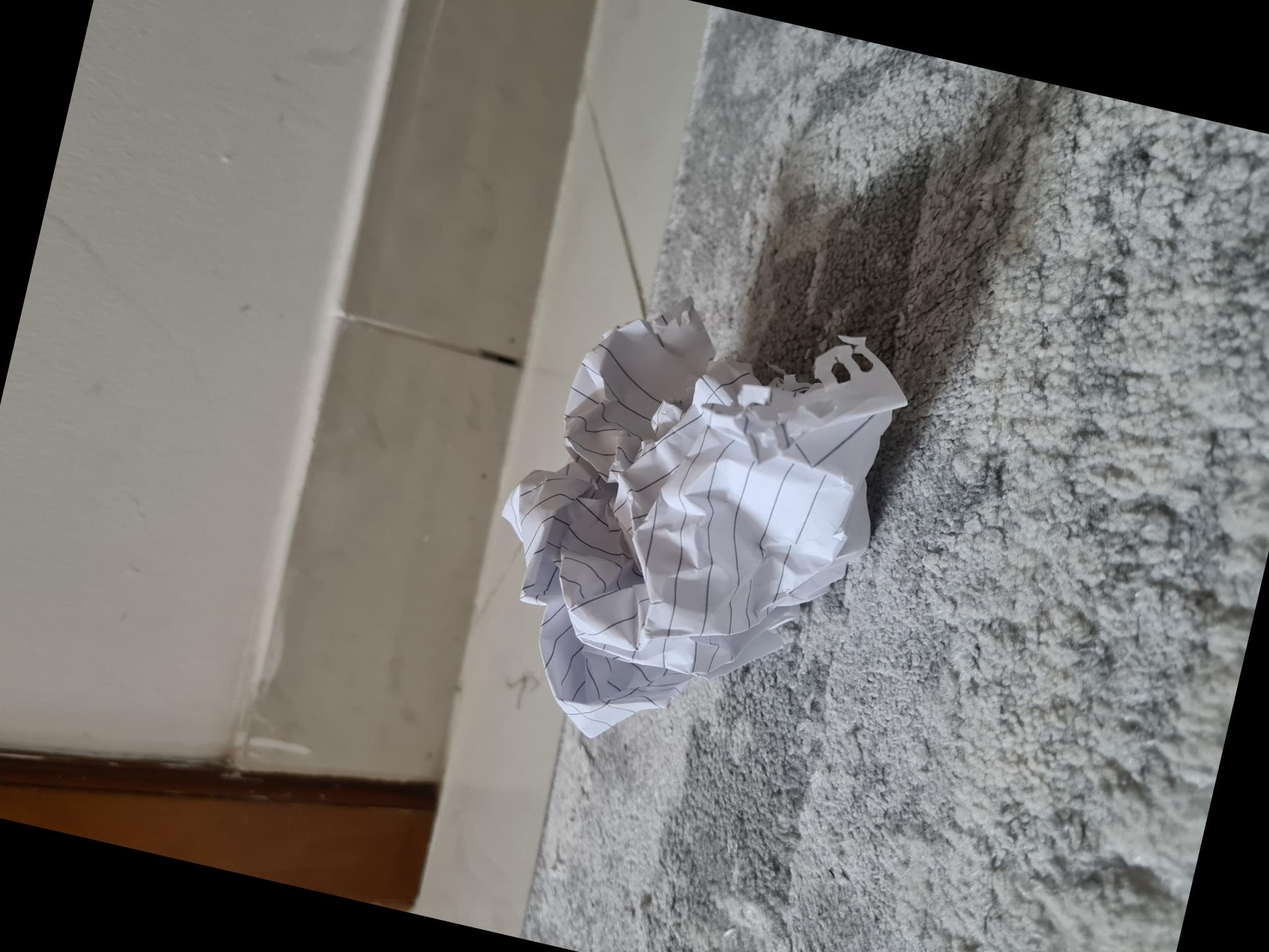Kertas: (191, 463, 604, 868)
